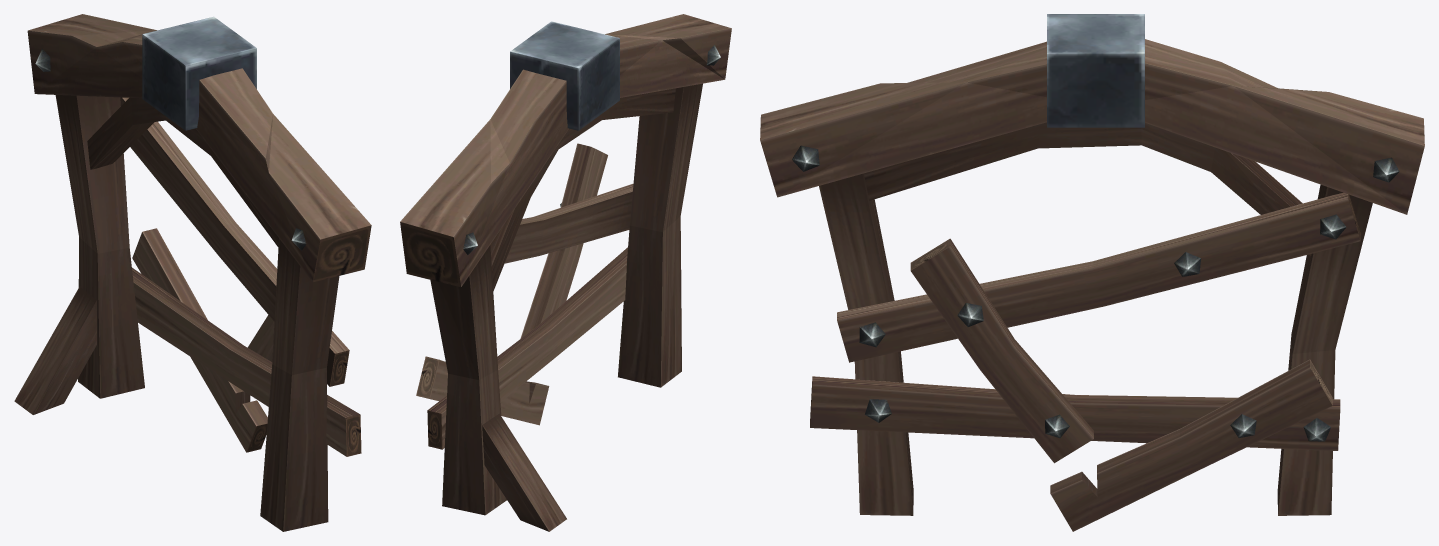
File: bandit_supportbeams_02.fbx
3 views of the same model, side by side, from view 1: azimuth 30°, elevation 25°; view 2: azimuth 150°, elevation 25°; view 3: azimuth 270°, elevation 25° (orthographic). The views are drawn at different scales.
Parts seen in each view (by area): view 1: obj0.686; view 2: obj0.686; view 3: obj0.686.
Boxes of the visible parts, <box> form: obj0.686: <box>14,14,371,531</box>; obj0.686: <box>400,14,731,531</box>; obj0.686: <box>760,14,1424,531</box>.
Bounding box in the file's own units: 2.34 × 6.38 × 8.18.
